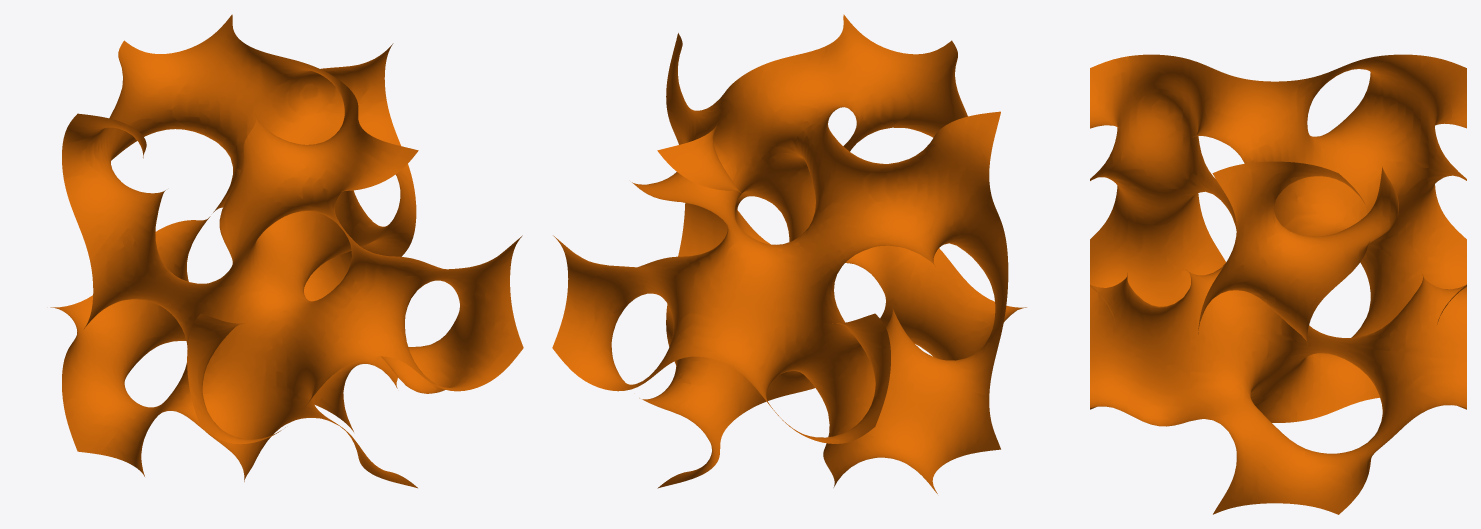
Rendered from unit_period.glb.
3 views of the same model, side by side, from view 1: azimuth 30°, elevation 25°; view 2: azimuth 150°, elevation 25°; view 3: azimuth 270°, elevation 25° (orthographic).
Parts seen in each view (by area): view 1: world; view 2: world; view 3: world.
Boxes of the visible parts, box(x1,y1,x2,y2) form: world: box(50, 14, 523, 488); world: box(552, 14, 1026, 493); world: box(1090, 54, 1466, 514).
Bounding box in the file's own units: 49 × 49 × 49.
